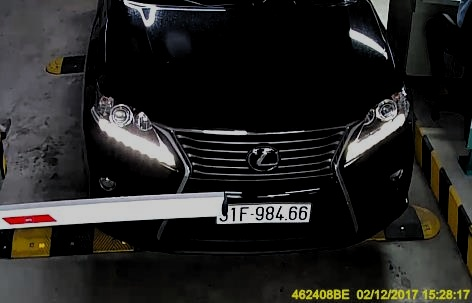plate: (214, 202, 310, 226)
